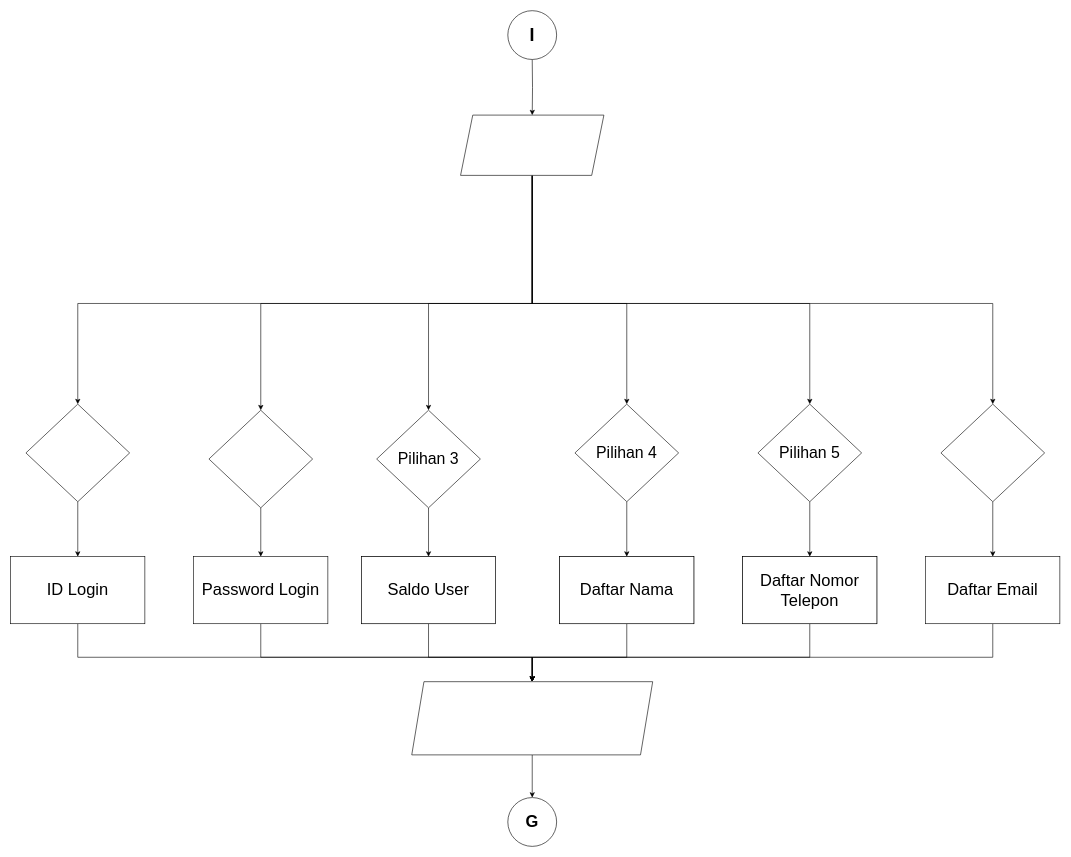
The diagram is 1071 pixels wide and 857 high, and some of its shapes have lost their labels. Each missing label, with the centre of its shape:
"Output, Tekan Enter Untuk Melanjutkan" belongs at pixel 532 718.
"Pilih data yang ingin di cek" belongs at pixel 532 144.
"Pilihan 1" belongs at pixel 77 453.
"Pilihan 2" belongs at pixel 260 459.
"Pilihan 6" belongs at pixel 992 453.
